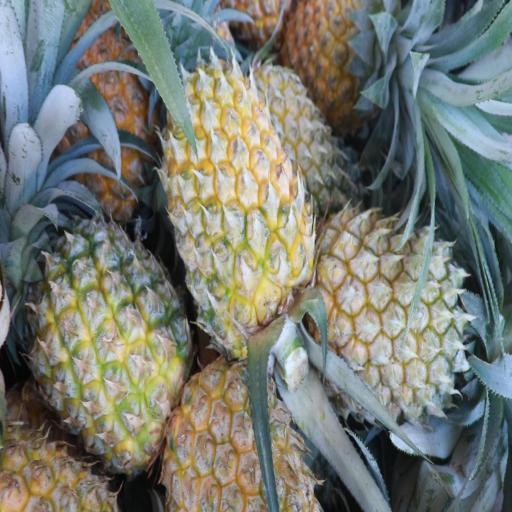------------------------------: (24, 210, 193, 482)
Pineapple - v8 v1: (154, 31, 321, 366), (305, 203, 475, 428), (277, 0, 424, 144)
